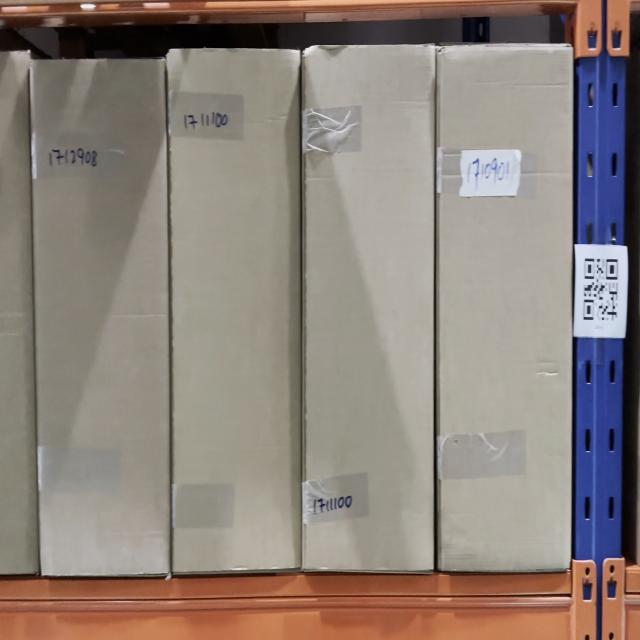box: (304, 46, 436, 570), (167, 51, 297, 571), (38, 66, 170, 574), (442, 49, 570, 567)
